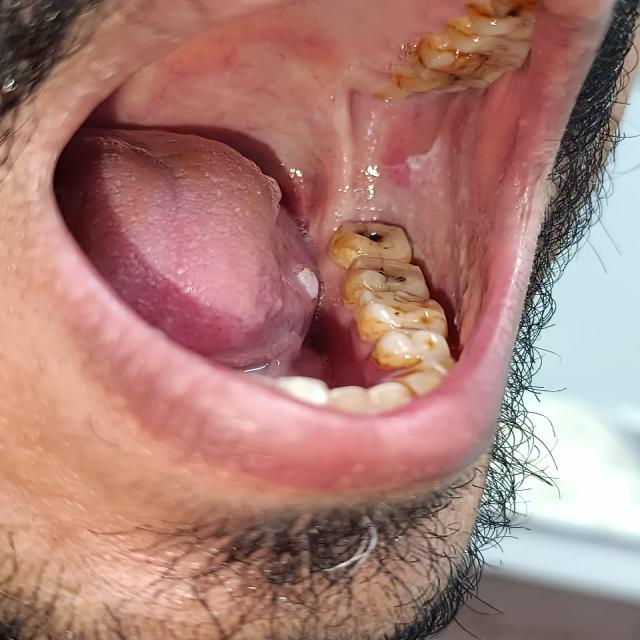leukoplakia-detection: (319, 78, 507, 318), (265, 239, 339, 320)
processing_area: (92, 0, 564, 333)
